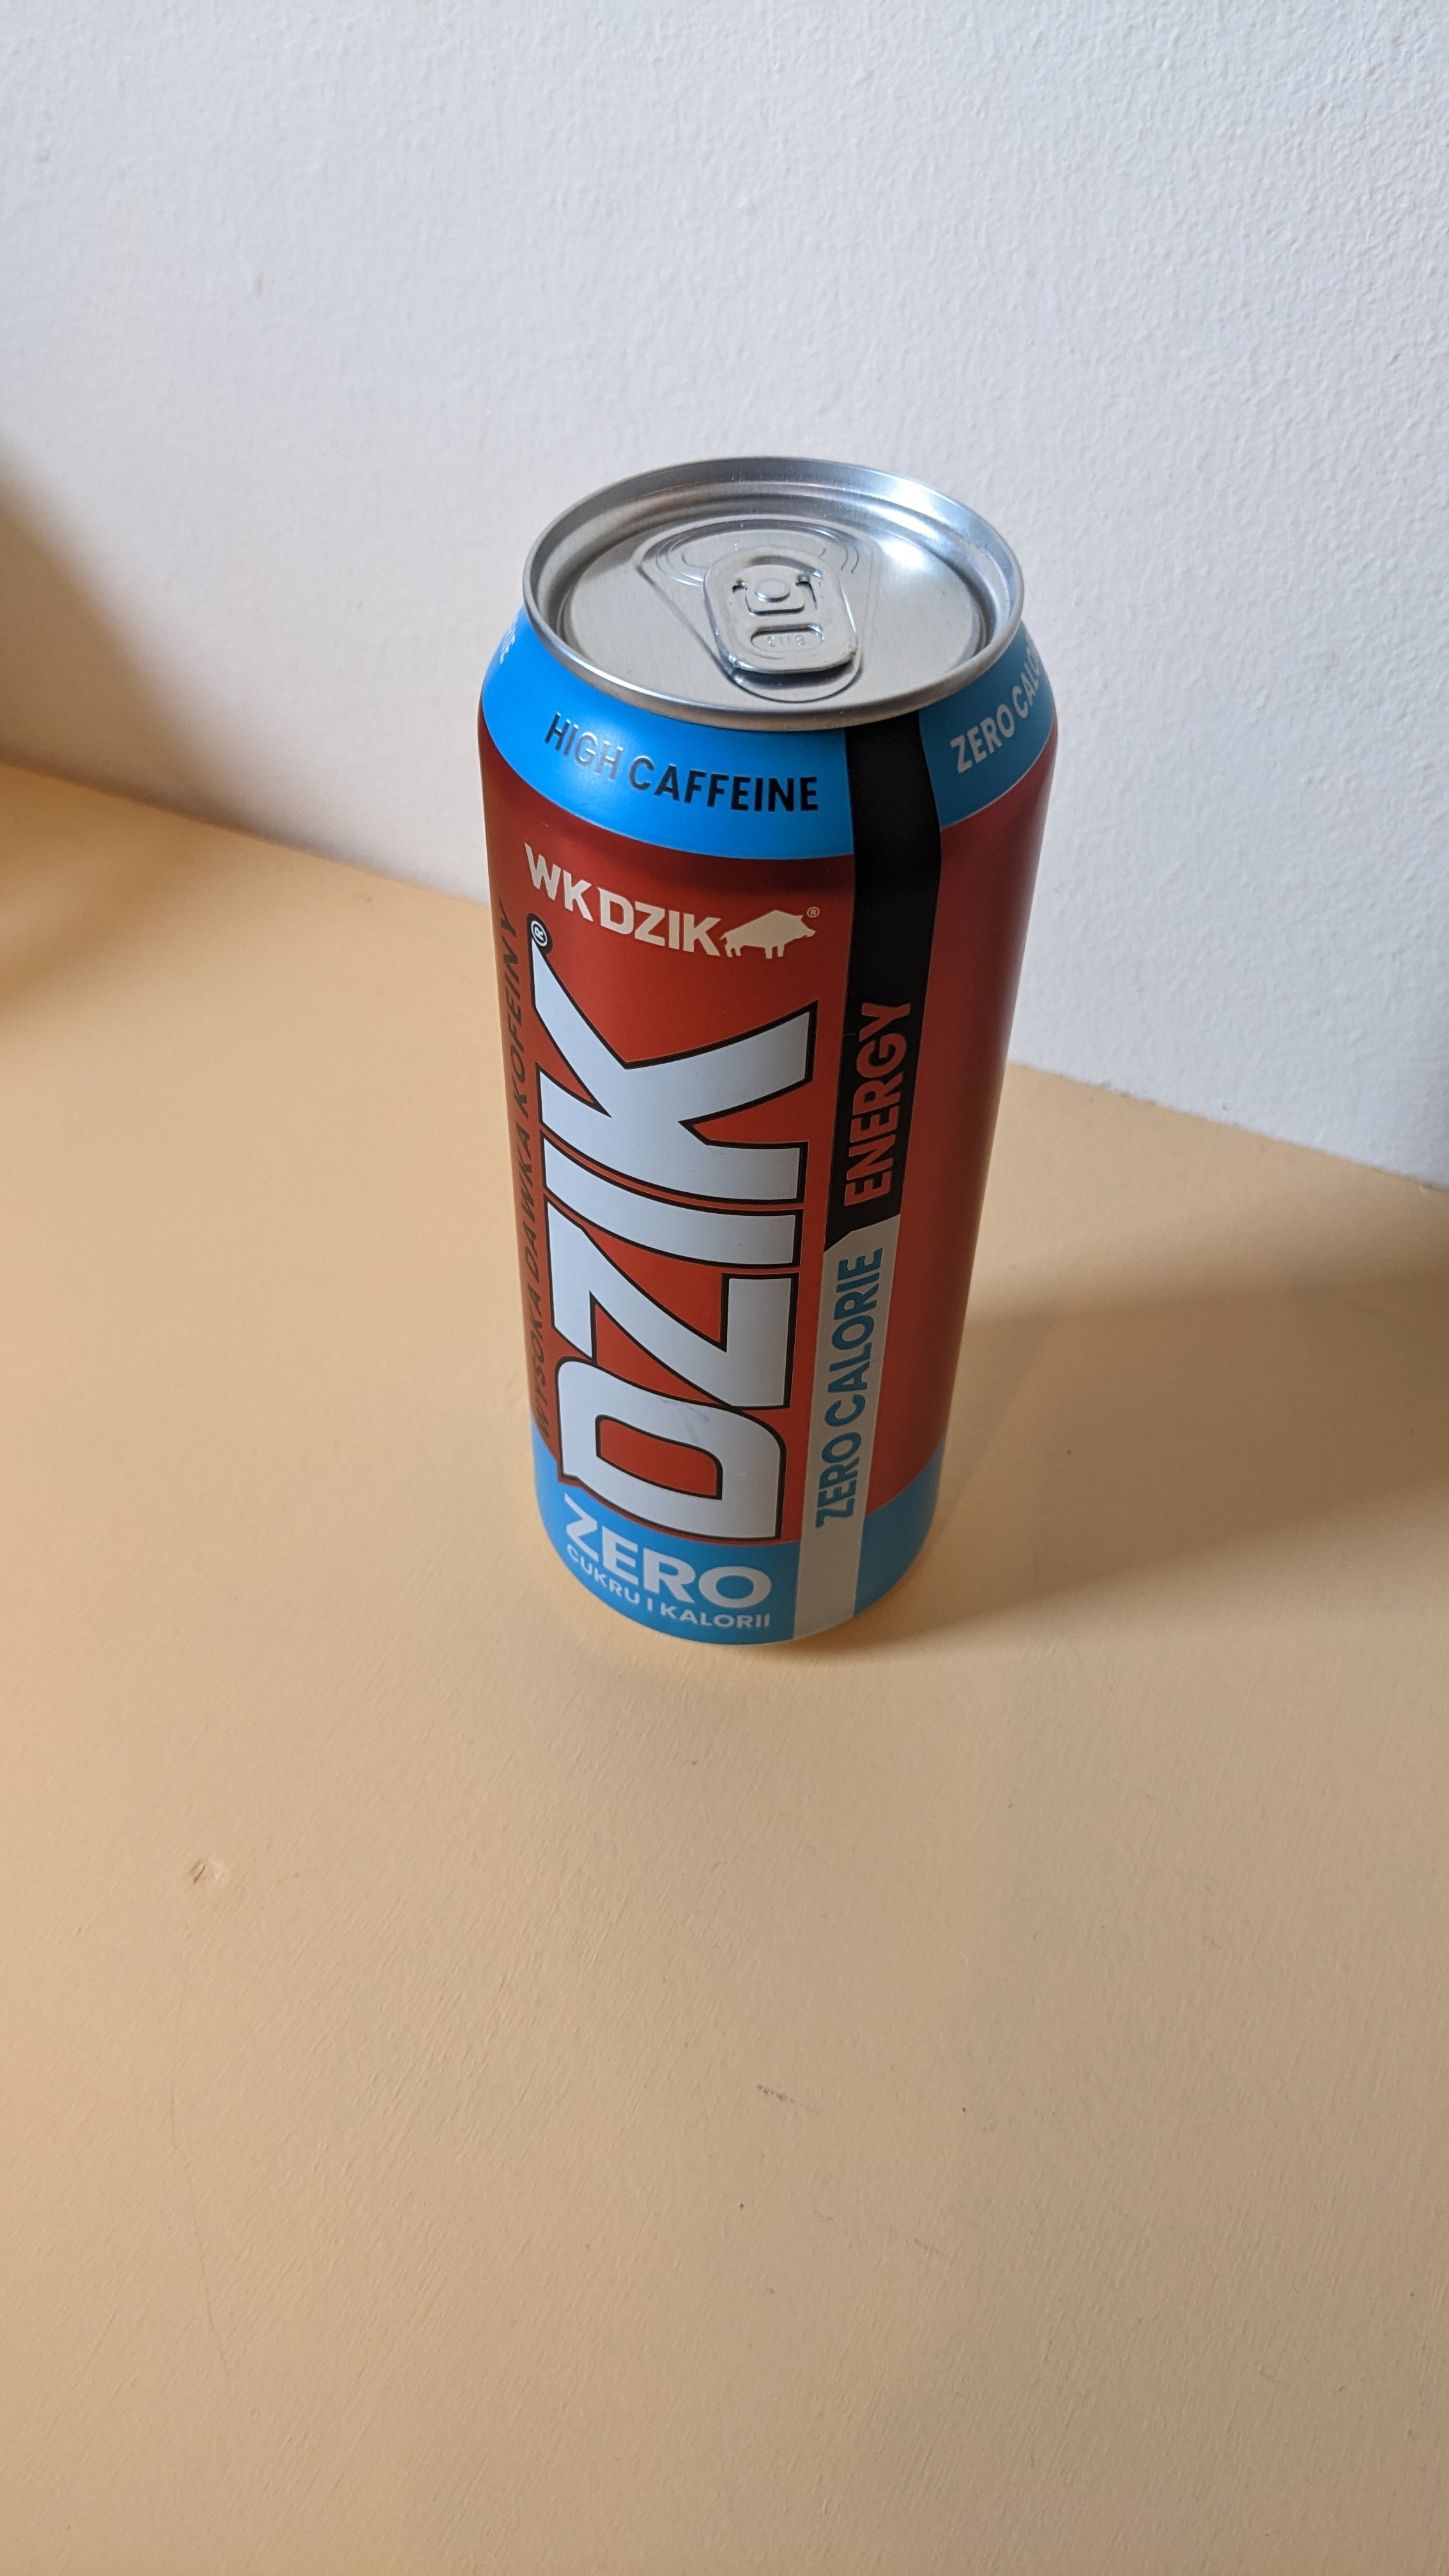dzik: (469, 416, 1031, 1684)
